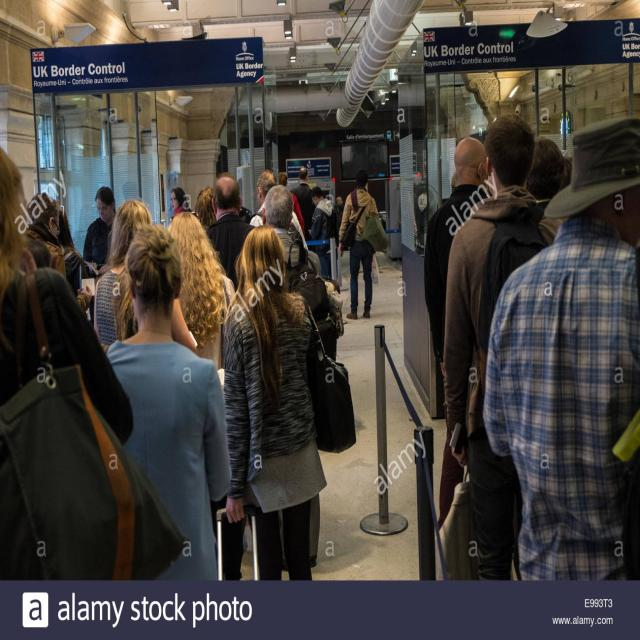body: (0, 144, 189, 578), (479, 114, 640, 581), (439, 116, 559, 582), (220, 224, 358, 581), (98, 224, 232, 580), (422, 135, 493, 528), (260, 185, 322, 570), (92, 198, 196, 351), (167, 210, 237, 391), (24, 191, 93, 315), (204, 173, 258, 295), (337, 168, 380, 321), (248, 169, 309, 251), (527, 134, 576, 215), (59, 204, 99, 296), (81, 186, 118, 271), (310, 185, 340, 278), (277, 171, 306, 239), (290, 166, 316, 231), (20, 228, 55, 272), (192, 185, 219, 230), (166, 185, 192, 215), (332, 193, 347, 239), (238, 205, 252, 222)
